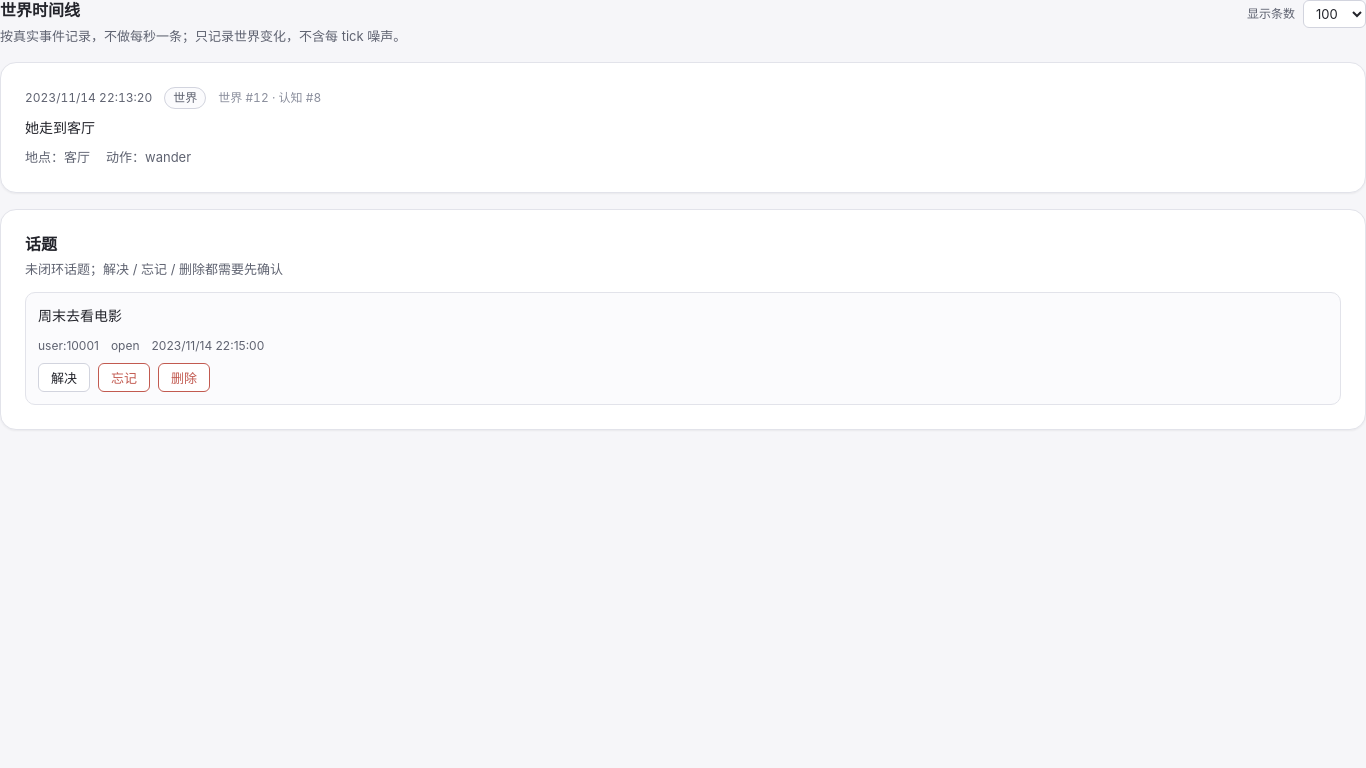
Test case: WorldTimeline 页 › 话题动作失败时显示后端 message
The image size is (1366, 768).
Click the button with test id "topic-forget-t-1": (124, 377) [98,363,150,392]
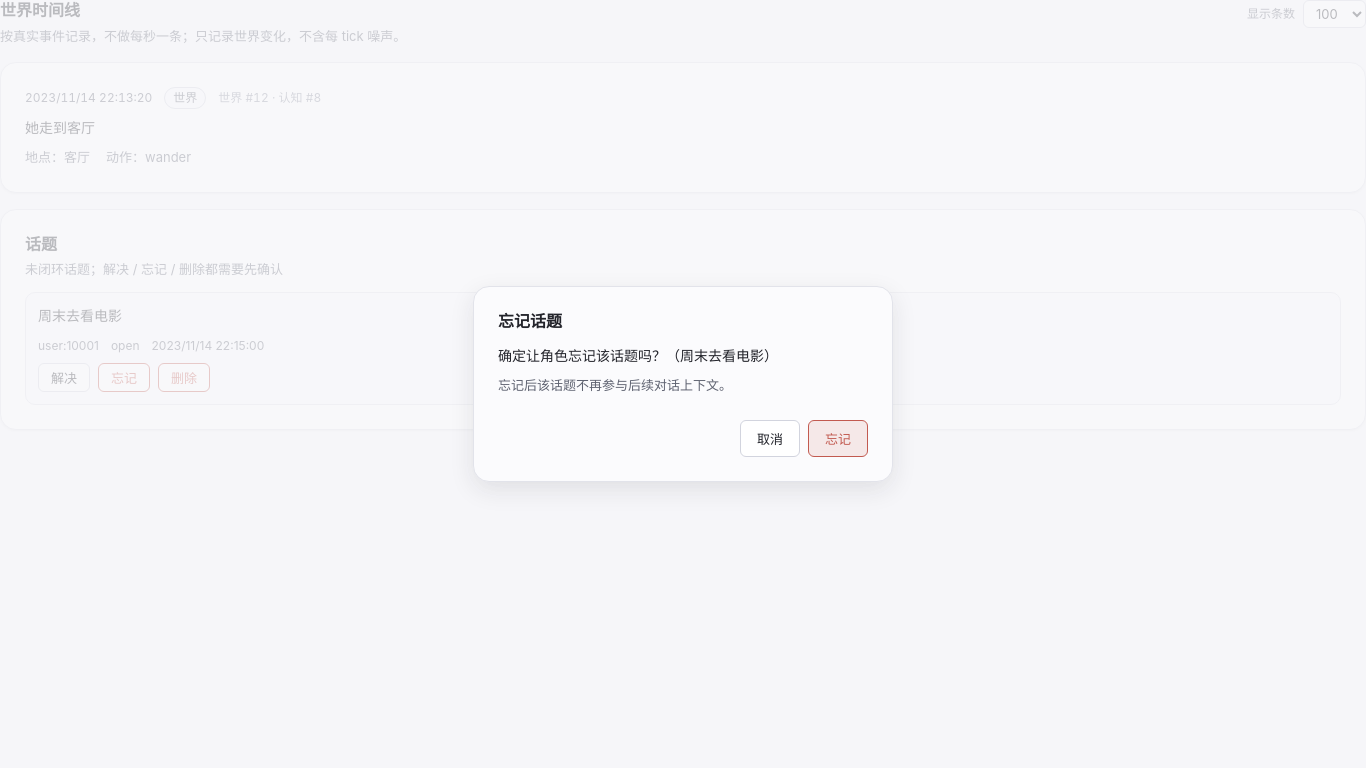
Click the button with test id "confirm": (838, 438) [808,420,868,457]
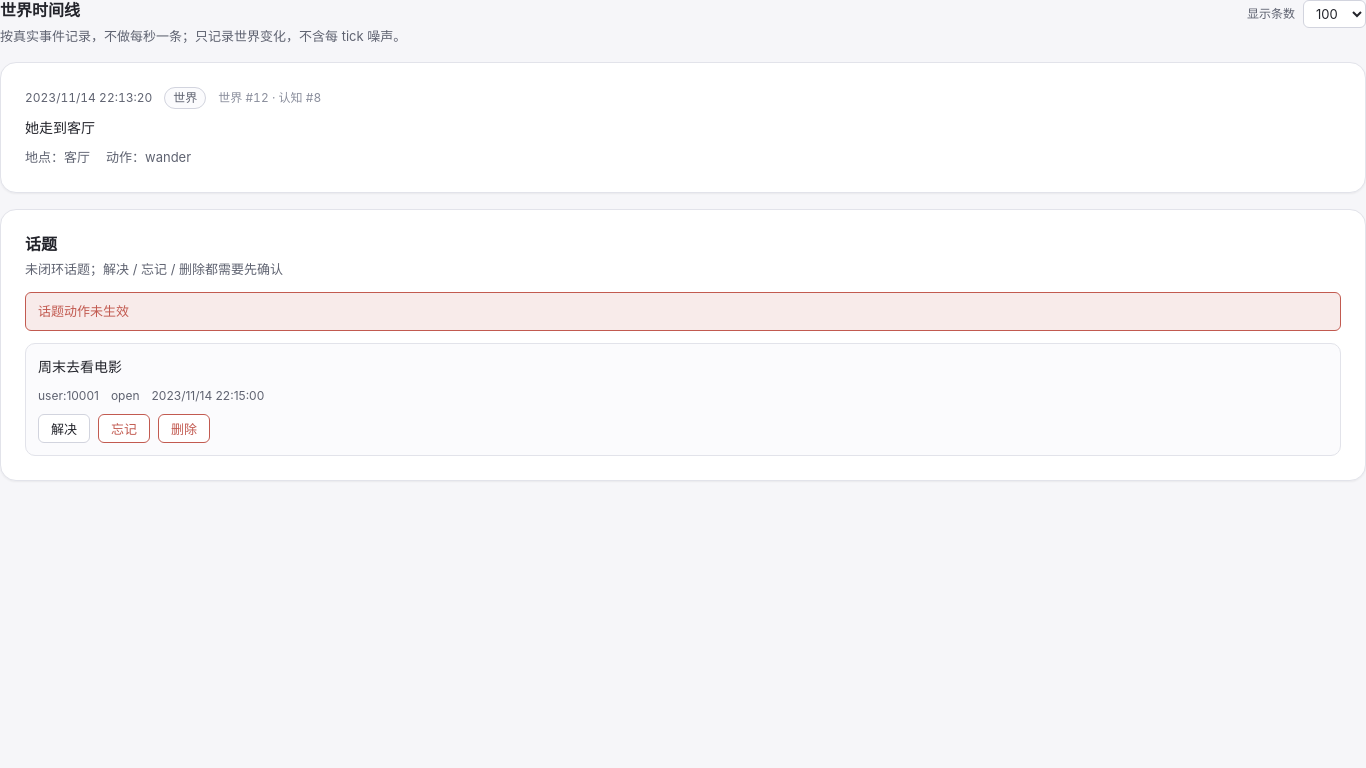
Now the message with test id "topic-error" reads "话题动作未生效", box [38,303,129,319]
